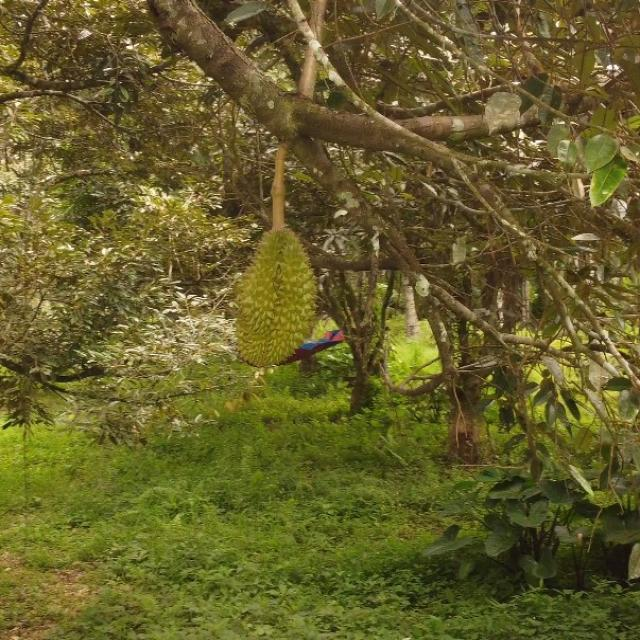immature: (236, 226, 318, 368)
